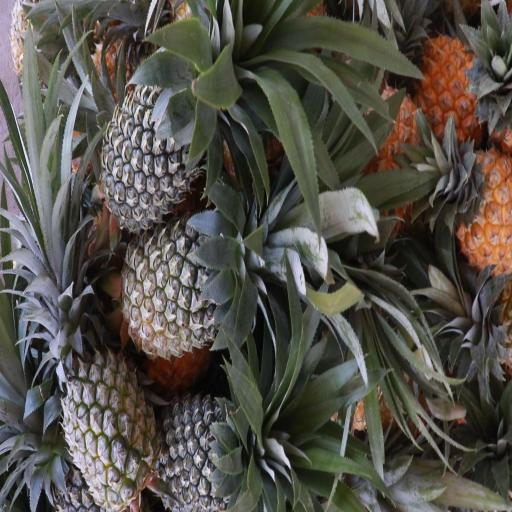------------------------------: (123, 216, 247, 348), (68, 346, 156, 498)
Pineapple - v8 v1: (422, 30, 504, 141), (444, 144, 512, 270)
